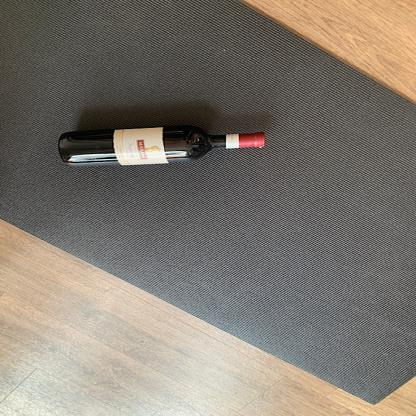trash: (56, 124, 269, 170)
